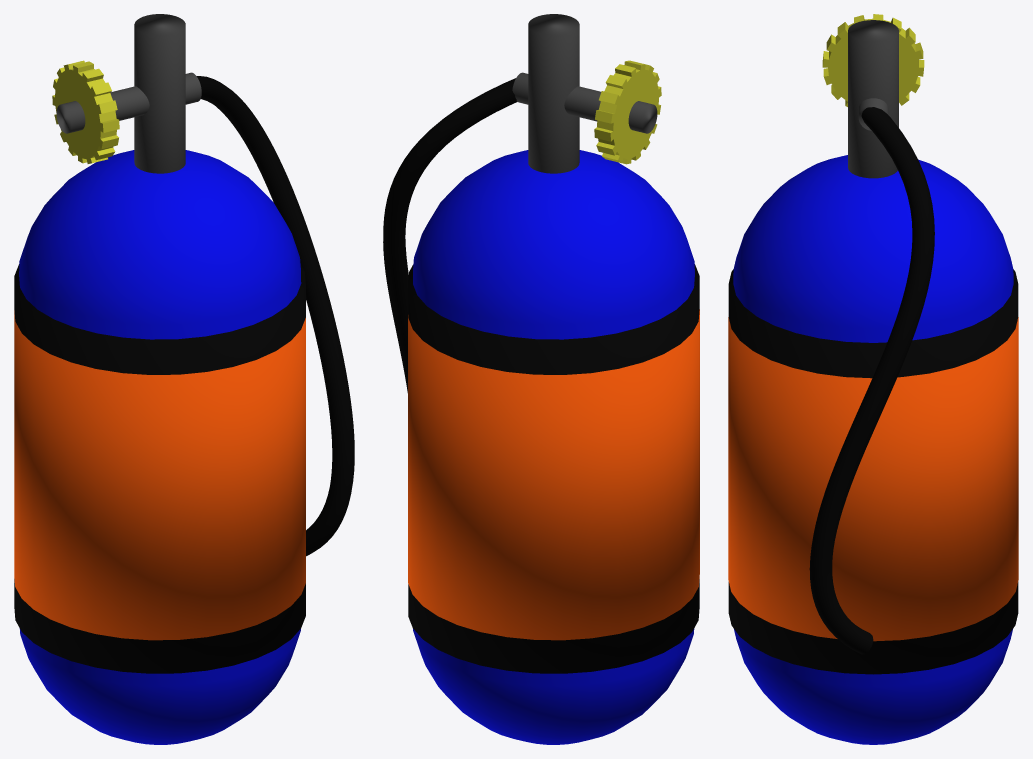
Rendered from nitro.fbx.
3 renders of one model, left to right at view 1: azimuth 30°, elevation 25°; view 2: azimuth 150°, elevation 25°; view 3: azimuth 270°, elevation 25°, orthographic.
Parts seen in each view (by area): view 1: 円柱.002, 球, 円柱.003, NURBSパス, 円柱, 円, 円柱.001; view 2: 円柱.002, 球, 円柱.003, 円柱, NURBSパス, 円, 円柱.001; view 3: 円柱.002, 球, 円柱.003, NURBSパス, 円柱, 円.
Part boxes in pixels (x1,y1,x2,y2): 円柱.002: [14, 310, 305, 640]; 球: [19, 150, 301, 744]; 円柱.003: [14, 264, 305, 673]; NURBSパス: [197, 76, 354, 556]; 円柱: [134, 14, 185, 173]; 円: [52, 60, 119, 163]; 円柱.001: [56, 72, 201, 133]; 円柱.002: [408, 309, 699, 640]; 球: [413, 150, 694, 744]; 円柱.003: [408, 264, 699, 673]; 円柱: [528, 14, 579, 173]; NURBSパス: [383, 78, 516, 392]; 円: [594, 60, 661, 164]; 円柱.001: [512, 72, 657, 133]; 円柱.002: [728, 317, 1018, 641]; 球: [733, 155, 1013, 744]; 円柱.003: [728, 269, 1018, 674]; NURBSパス: [809, 107, 934, 654]; 円柱: [848, 20, 898, 178]; 円: [822, 14, 924, 106].
Bounding box in the file's own units: 237 × 542 × 203.
